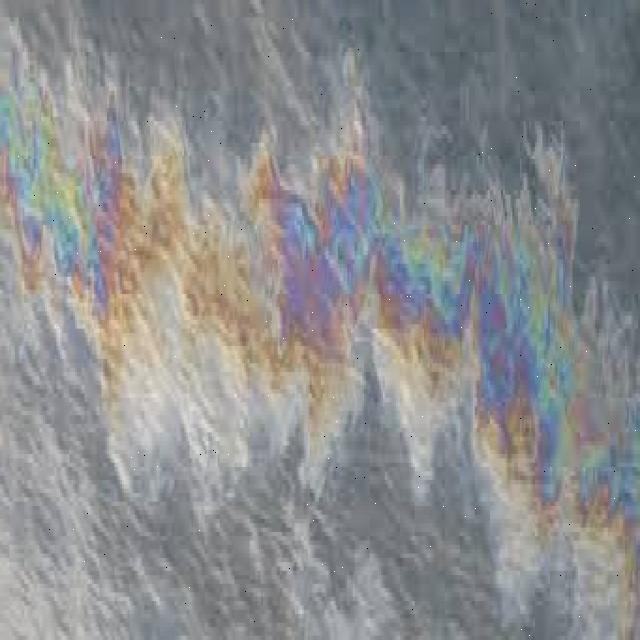rainbow: (265, 158, 640, 582), (8, 71, 128, 350)
truecolor: (114, 156, 282, 370)
